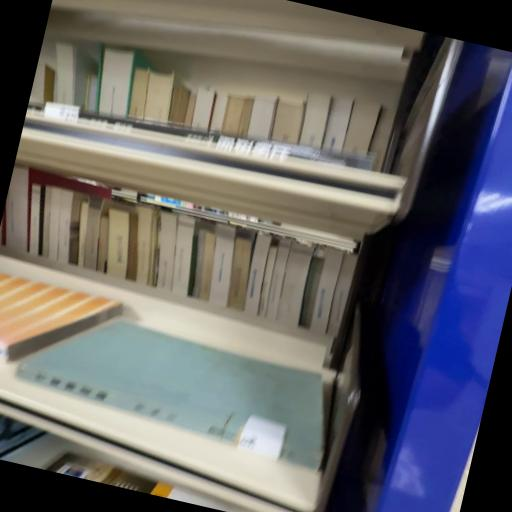flat: (17, 321, 324, 470)
